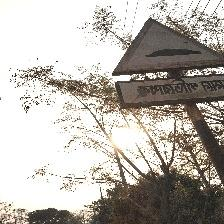Speed-breaker: (112, 17, 224, 109)
